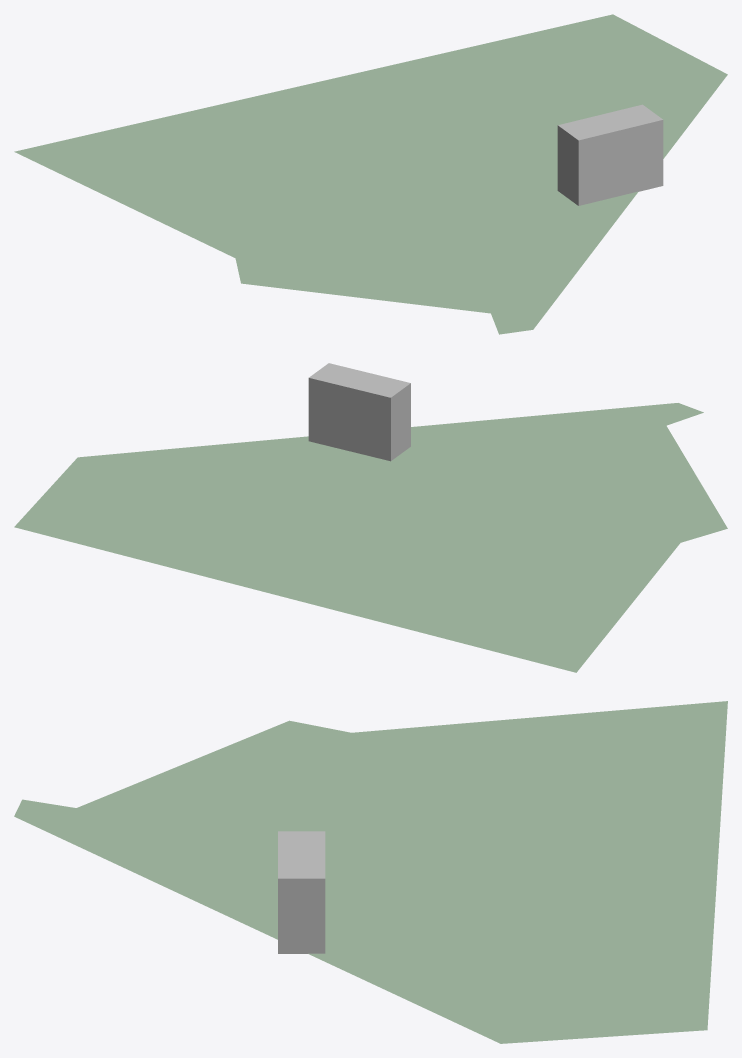
The model's file is 142_114_mid.glb.
The picture shows the model from 3 angles, top to bottom: view 1: azimuth 30°, elevation 25°; view 2: azimuth 150°, elevation 25°; view 3: azimuth 270°, elevation 25°; orthographic projection. The views are drawn at different scales.
Size of the model in its own units: 280 by 28.8 by 247.
